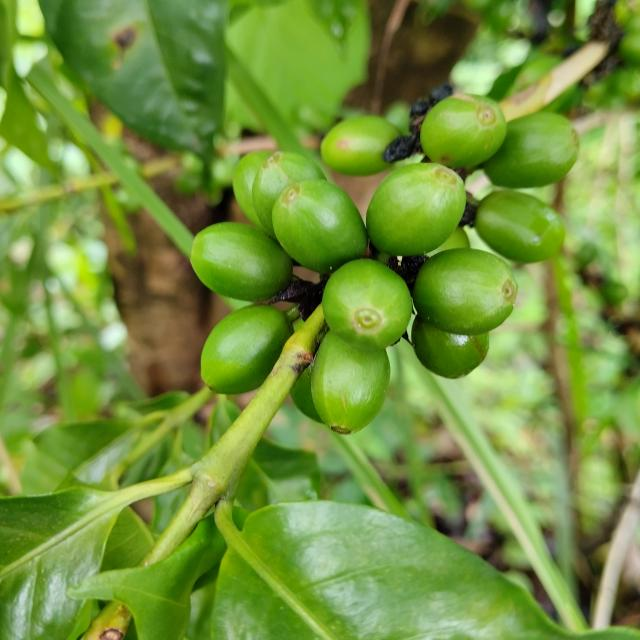green: (366, 162, 467, 256), (413, 248, 518, 336), (272, 179, 368, 274), (311, 331, 391, 435), (322, 259, 413, 349), (201, 305, 293, 394), (190, 222, 293, 301), (483, 111, 580, 188), (475, 189, 566, 263), (421, 93, 507, 167), (252, 151, 325, 235), (412, 315, 490, 379), (321, 115, 400, 175), (232, 151, 272, 228), (427, 226, 471, 256)
